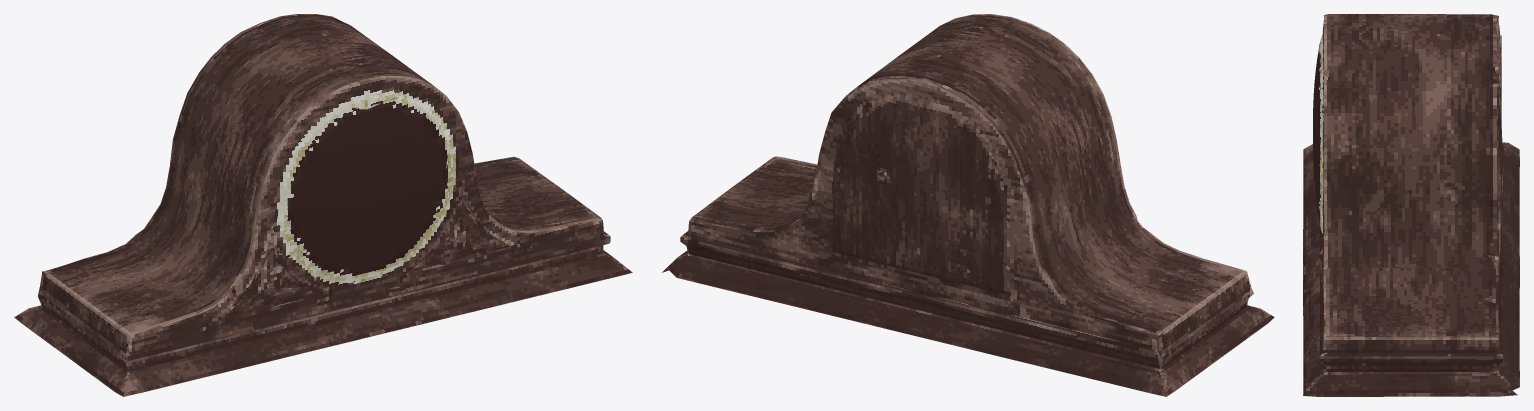
Rendered from mantel_clock_01.glb.
3 views of the same model, side by side, from view 1: azimuth 30°, elevation 25°; view 2: azimuth 150°, elevation 25°; view 3: azimuth 270°, elevation 25° (orthographic).
Visible parts, largest first — view 1: mesh; view 2: mesh; view 3: mesh.
Part boxes in pixels (<box>): mesh: <box>14,14,632,396</box>; mesh: <box>662,14,1274,396</box>; mesh: <box>1303,14,1519,396</box>.
Size of the model in its own units: 27.64 by 12.84 by 10.24.
1 material, 1 textured.
